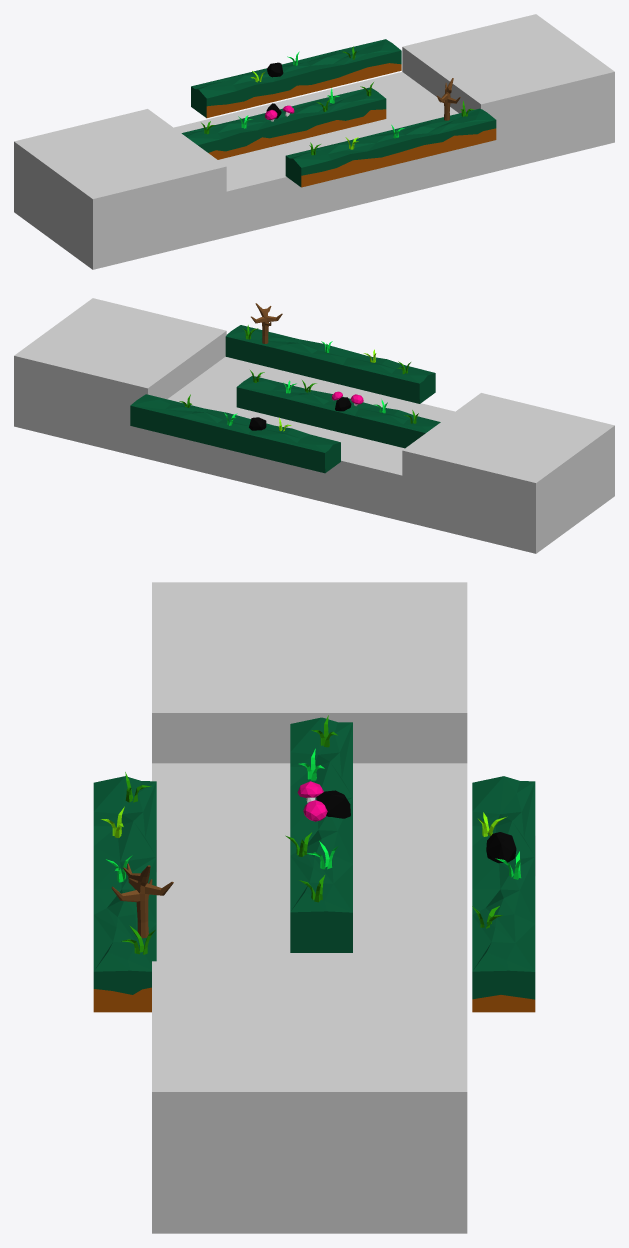
The model's file is VHard_Obstacle_Forest_10.fbx.
3 renders of one model, top to bottom at view 1: azimuth 30°, elevation 25°; view 2: azimuth 150°, elevation 25°; view 3: azimuth 270°, elevation 25°, orthographic. The views are drawn at different scales.
Parts seen in each view (by area): view 1: Cube, Icosphere.008; view 2: Cube, Icosphere.008; view 3: Cube, Icosphere.008.
Boxes of the visible parts, x1,y1,x2,y2 form: Cube: [14, 14, 614, 269]; Icosphere.008: [181, 39, 496, 187]; Cube: [14, 298, 614, 553]; Icosphere.008: [130, 303, 440, 473]; Cube: [152, 582, 467, 1233]; Icosphere.008: [93, 715, 535, 1012].
Size of the model in its own units: 10231 by 1955 by 3746.
